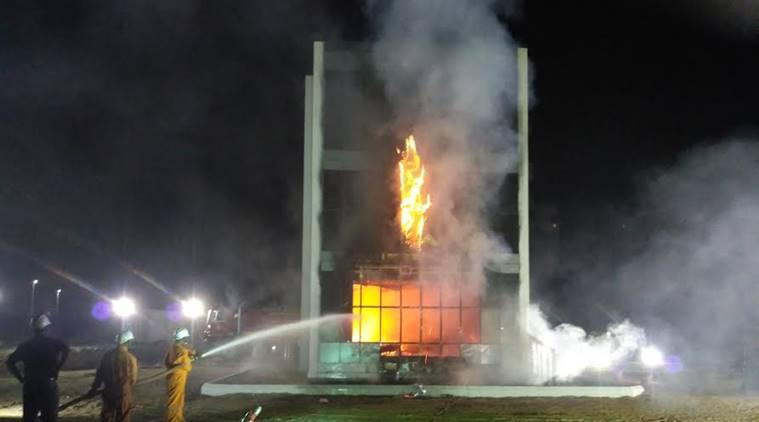fire: (371, 120, 454, 250), (345, 277, 407, 352)
